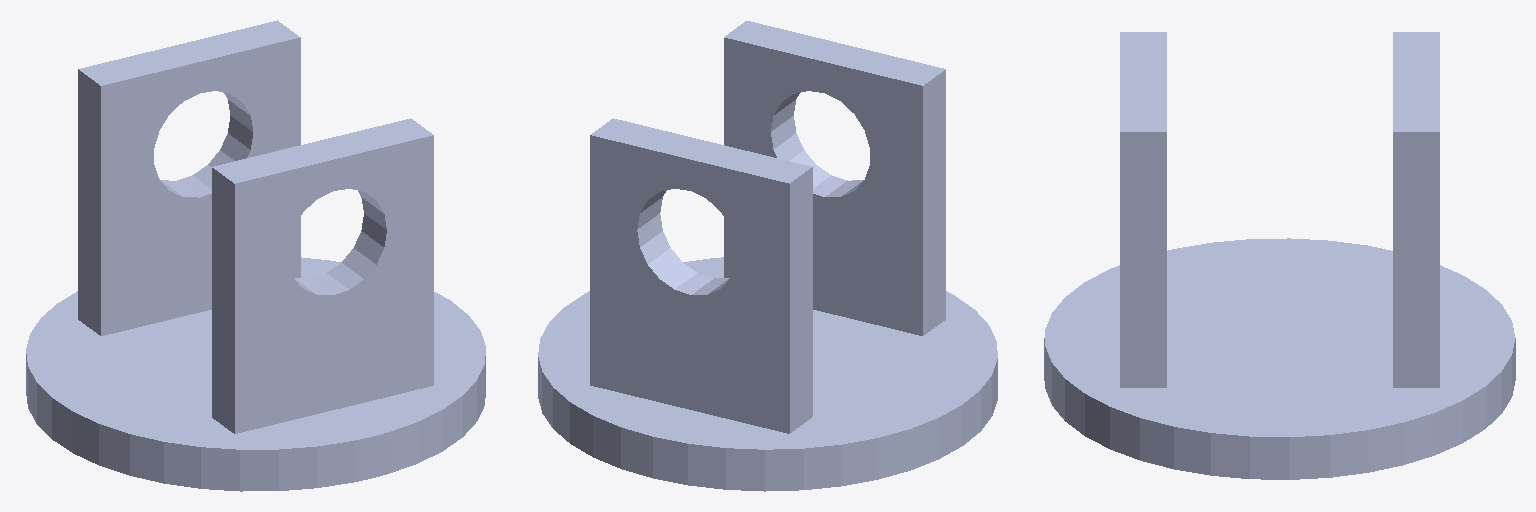
URDF robot description (Full Arm Test URDF):
<?xml version="1.0" encoding="utf-8"?>
<!-- This URDF was automatically created by SolidWorks to URDF Exporter! Originally created by [author] ([email redacted]) 
     Commit Version: 1.6.0-4-g7f85cfe  Build Version: 1.6.7995.38578
     For more information, please see http://wiki.ros.org/sw_urdf_exporter -->
<robot
  name="Full Arm Test URDF">
  <link
    name="base_link">
    <inertial>
      <origin
        xyz="0.0341265006183657 0.0462950686935159 0.102443391257354"
        rpy="0 0 0" />
      <mass
        value="0.128722339297277" />
      <inertia
        ixx="0.000142238421038904"
        ixy="2.18911954344771E-07"
        ixz="7.93639398841833E-21"
        iyy="0.000152907871823892"
        iyz="3.3794662701644E-20"
        izz="0.000111728143440921" />
    </inertial>
    <visual>
      <origin
        xyz="0 0 0"
        rpy="0 0 0" />
      <geometry>
        <mesh
          filename="package://Full Arm Test URDF/meshes/base_link.STL" />
      </geometry>
      <material
        name="">
        <color
          rgba="0.792156862745098 0.819607843137255 0.933333333333333 1" />
      </material>
    </visual>
    <collision>
      <origin
        xyz="0 0 0"
        rpy="0 0 0" />
      <geometry>
        <mesh
          filename="package://Full Arm Test URDF/meshes/base_link.STL" />
      </geometry>
    </collision>
  </link>
  <link
    name="mid_link">
    <inertial>
      <origin
        xyz="0.273192267045527 -0.00101758506181426 0.048"
        rpy="0 0 0" />
      <mass
        value="1.33988411019615" />
      <inertia
        ixx="0.000690966563402024"
        ixy="-6.43694114374591E-06"
        ixz="1.35519218508846E-19"
        iyy="0.0368276656683698"
        iyz="-1.7551246680344E-20"
        izz="0.0366655806705105" />
    </inertial>
    <visual>
      <origin
        xyz="0 0 0"
        rpy="0 0 0" />
      <geometry>
        <mesh
          filename="package://Full Arm Test URDF/meshes/mid_link.STL" />
      </geometry>
      <material
        name="">
        <color
          rgba="0.792156862745098 0.819607843137255 0.933333333333333 1" />
      </material>
    </visual>
    <collision>
      <origin
        xyz="0 0 0"
        rpy="0 0 0" />
      <geometry>
        <mesh
          filename="package://Full Arm Test URDF/meshes/mid_link.STL" />
      </geometry>
    </collision>
  </link>
  <joint
    name="base_mid_joint"
    type="continuous">
    <origin
      xyz="0.0348737113007681 -0.0544433912573545 0.0784129726863933"
      rpy="1.5707963267949 -1.41182272304743 0" />
    <parent
      link="base_link" />
    <child
      link="mid_link" />
    <axis
      xyz="0 0 1" />
  </joint>
  <link
    name="fore_link">
    <inertial>
      <origin
        xyz="0.24 2.22044604925031E-16 0.024"
        rpy="0 0 0" />
      <mass
        value="1.16938811019615" />
      <inertia
        ixx="0.000456252044212199"
        ixy="-2.82773479111376E-17"
        ixz="1.31083120312533E-19"
        iyy="0.0257703524715107"
        iyz="2.83480040751111E-20"
        izz="0.0257775594814076" />
    </inertial>
    <visual>
      <origin
        xyz="0 0 0"
        rpy="0 0 0" />
      <geometry>
        <mesh
          filename="package://Full Arm Test URDF/meshes/fore_link.STL" />
      </geometry>
      <material
        name="">
        <color
          rgba="0.796078431372549 0.823529411764706 0.937254901960784 1" />
      </material>
    </visual>
    <collision>
      <origin
        xyz="0 0 0"
        rpy="0 0 0" />
      <geometry>
        <mesh
          filename="package://Full Arm Test URDF/meshes/fore_link.STL" />
      </geometry>
    </collision>
  </link>
  <joint
    name="mid_fore_link"
    type="continuous">
    <origin
      xyz="0.538 -0.00100000000000159 0.024"
      rpy="0 0 -1.5297747116815" />
    <parent
      link="mid_link" />
    <child
      link="fore_link" />
    <axis
      xyz="0 0 1" />
  </joint>
</robot>

--- Facts derived from the render (not from the file) ---
Views: 3 orthographic renders of the robot side by side, from view 1: azimuth 30°, elevation 25°; view 2: azimuth 150°, elevation 25°; view 3: azimuth 270°, elevation 25°.
Model Full Arm Test URDF with 3 links and 2 joints (2 continuous), rooted at base_link, posed every joint at zero.
Visible links, largest first — view 1: base_link; view 2: base_link; view 3: base_link.
Boxes of the visible links, <box> form: base_link: <box>26,20,485,491</box>; base_link: <box>538,21,997,491</box>; base_link: <box>1044,32,1515,479</box>.
Size in the robot's own frame: 0.0999 by 0.1 by 0.07 metres.
Meshes: 3 distinct files referenced, 1 mesh visuals loaded (1 binary STL); not drawn: 2 (reference not matched to a file when rendering).